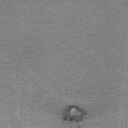iron sheet ash: (60, 105, 88, 124)
